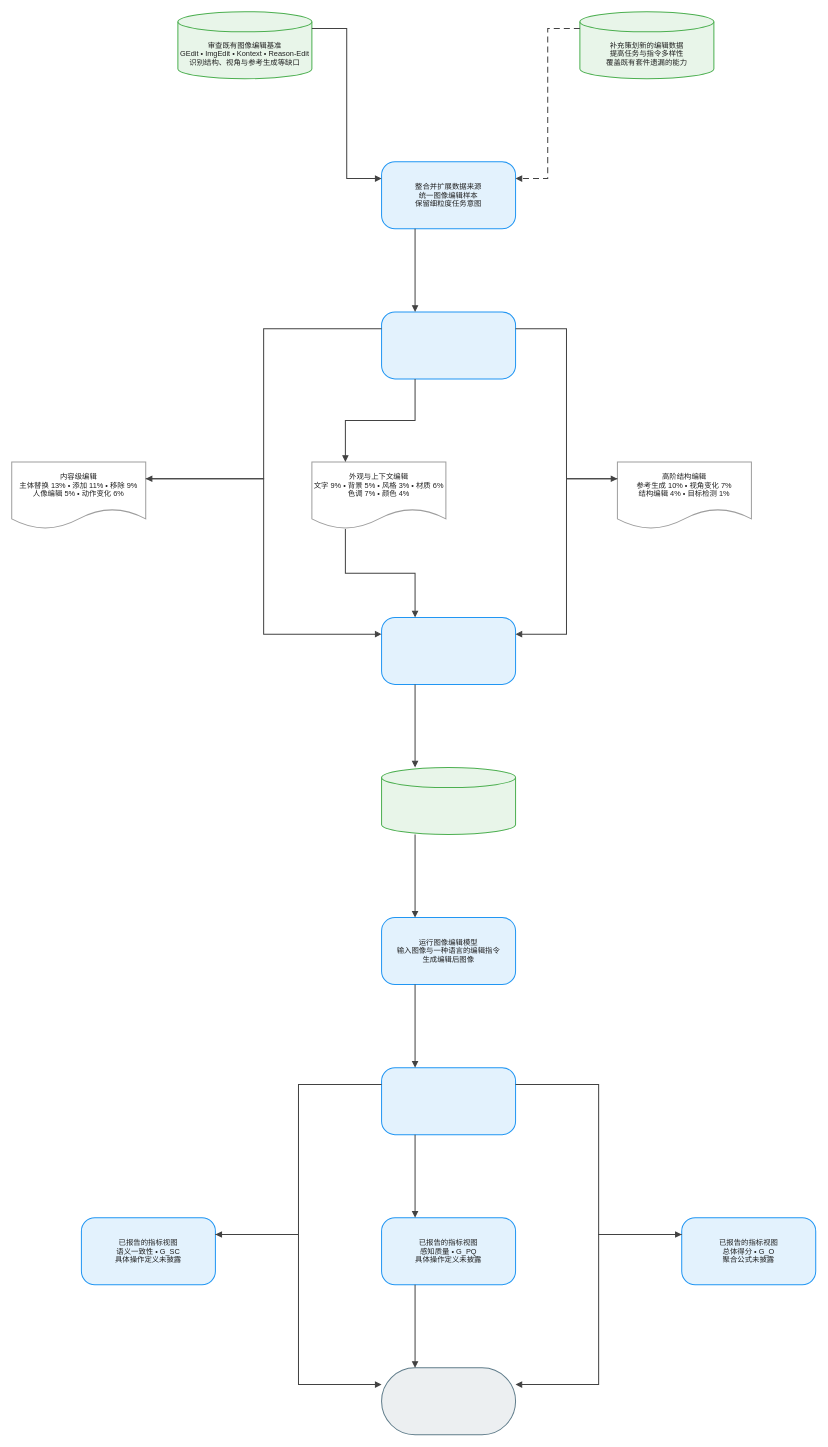
Image size: 828x1447. Some labels were removed from this diagram. The centre of each missing label's shape, as x and y in pixels:
使用 GPT-4o 自动评测 技术报告未发布裁判提示词 详细评分细则与分数公式未披露: point (448, 1101)
发布 CEdit-Bench 1,464 对中英双语编辑样本 15 个细粒度类别 • MIT 许可证: point (448, 801)
封装数据字段 key • input_image • instruction_en instruction_cn • task_type: point (448, 651)
按基准语言报告模型结果 展示 G_SC • G_PQ • G_O 不推断未发布的裁判公式: point (448, 1401)
构建双语编辑样本对 输入图像 • 英文指令 语义对应的中文指令: point (448, 345)
